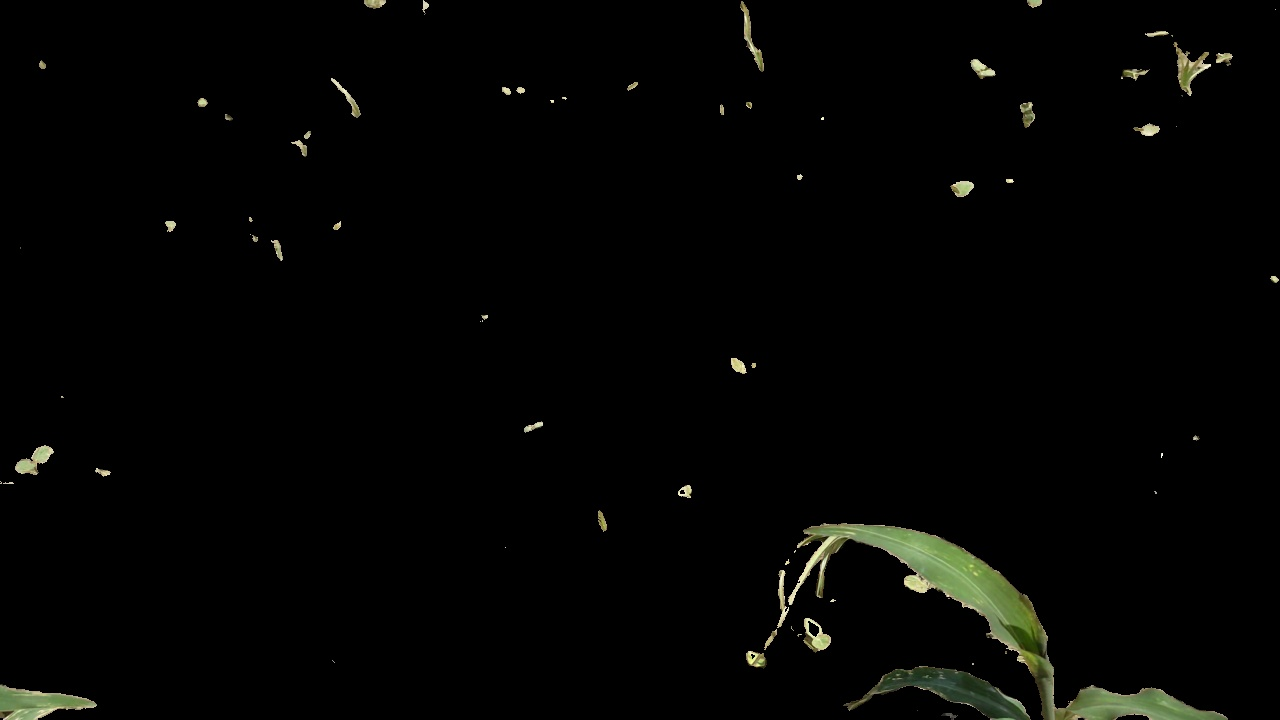crop: (765, 501, 1271, 720)
weed: (11, 438, 53, 487), (806, 618, 831, 662)
